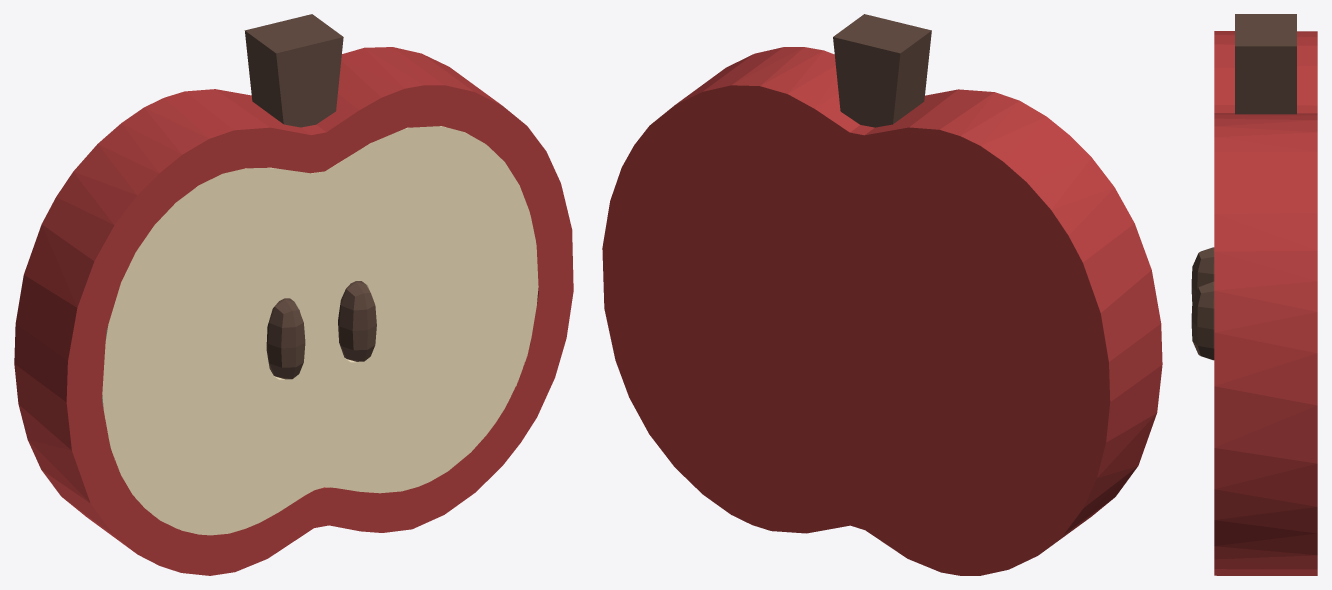
File: apple.glb
The picture shows the model from 3 angles, left to right: view 1: azimuth 30°, elevation 25°; view 2: azimuth 150°, elevation 25°; view 3: azimuth 270°, elevation 25°; orthographic projection.
Parts seen in each view (by area): view 1: Plane.001, Plane.161, Plane.155, Plane.160; view 2: Plane.161, Plane.155; view 3: Plane.161, Plane.155, Plane.160.
Boxes of the visible parts, bbox=[...] form: Plane.001: bbox=[102, 126, 538, 535]; Plane.161: bbox=[14, 47, 573, 575]; Plane.155: bbox=[244, 14, 343, 127]; Plane.160: bbox=[266, 281, 376, 379]; Plane.161: bbox=[602, 47, 1162, 575]; Plane.155: bbox=[833, 14, 931, 127]; Plane.161: bbox=[1214, 31, 1317, 575]; Plane.155: bbox=[1235, 14, 1296, 114]; Plane.160: bbox=[1191, 247, 1214, 360].
Size of the model in its own units: 14 by 13.16 by 3.05.
